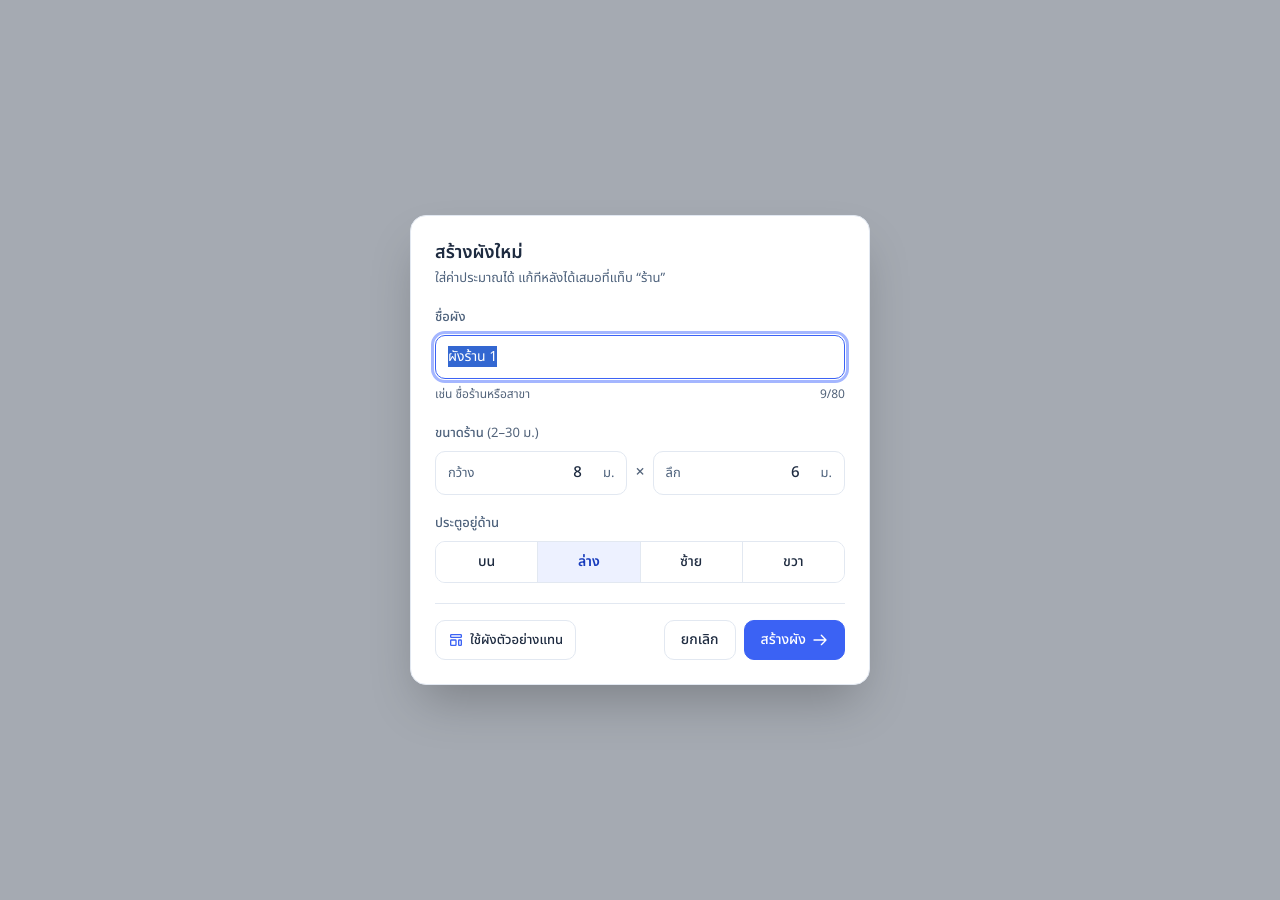
Test: CreateProjectDialog (feat-063) › ตรวจจับขนาดร้านนอกช่วง 2 ถึง 30 เมตร
Replace the text in the number field named "ความกว้าง (เมตร)" next to "กว้าง" with "1.5": (539, 473) [480, 459, 597, 487]
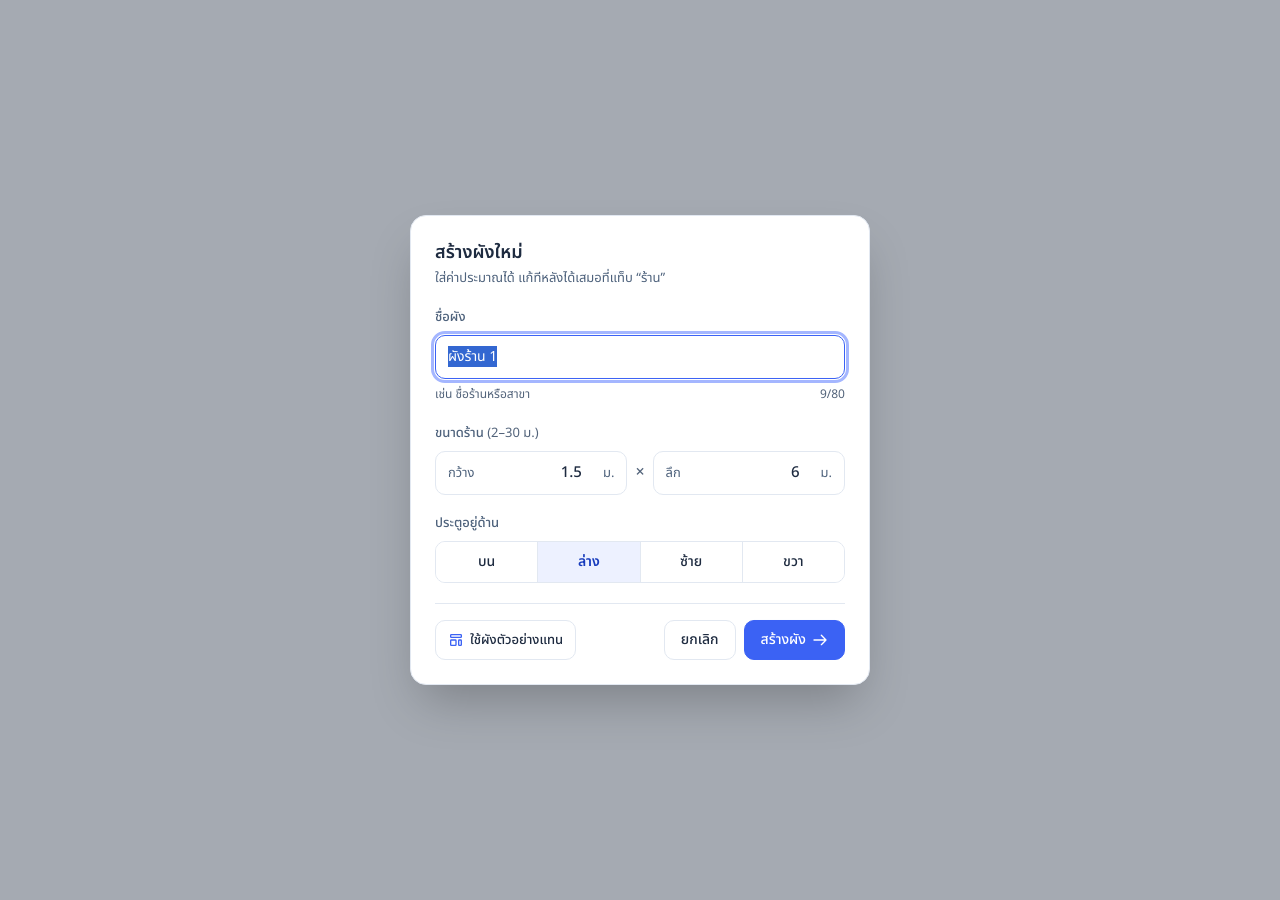
Click the button "สร้างผัง": click(794, 640) [744, 620, 845, 660]
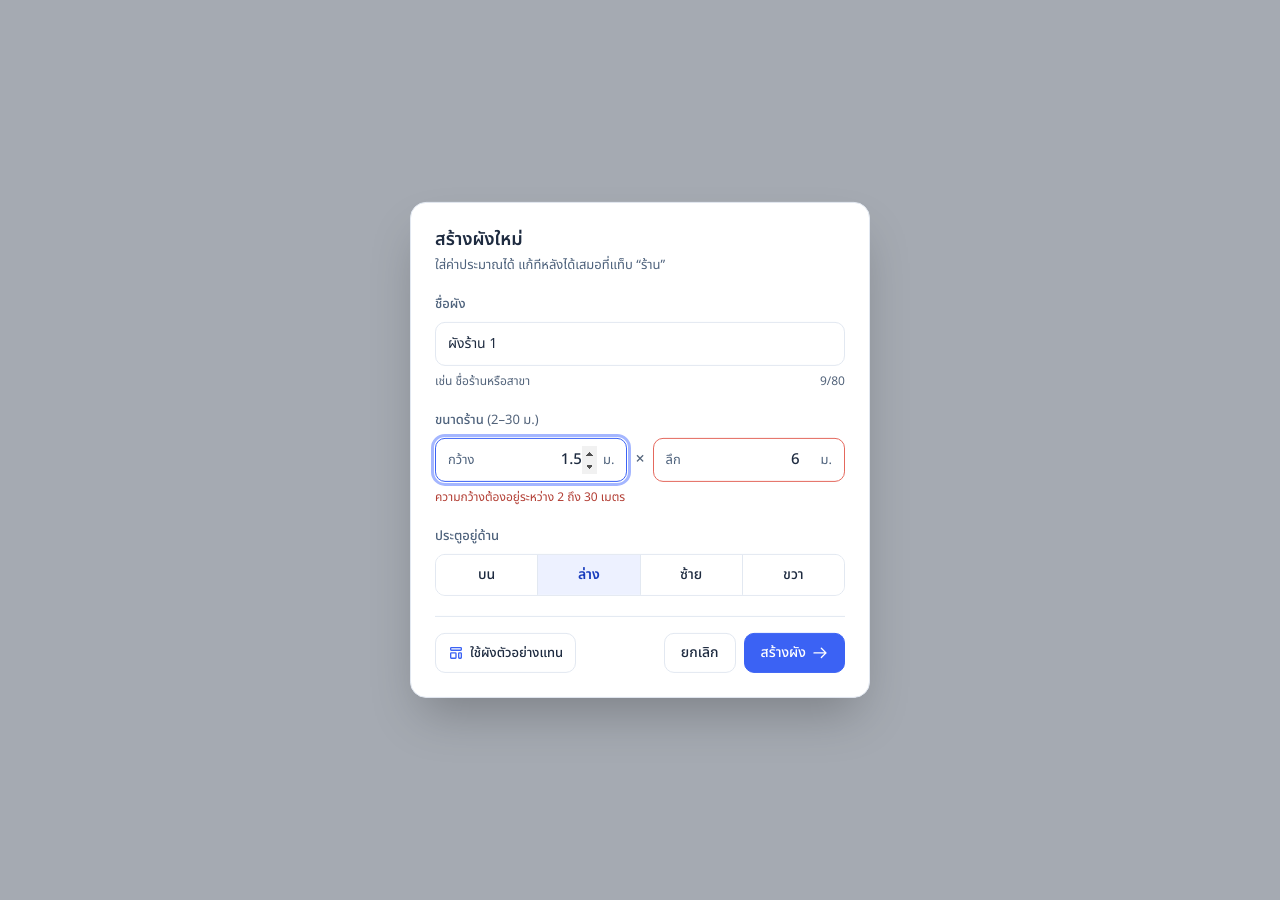
Result: the text "ความกว้างต้องอยู่ระหว่าง 2 ถึง 30 เมตร" is shown at [435, 488, 625, 506]
